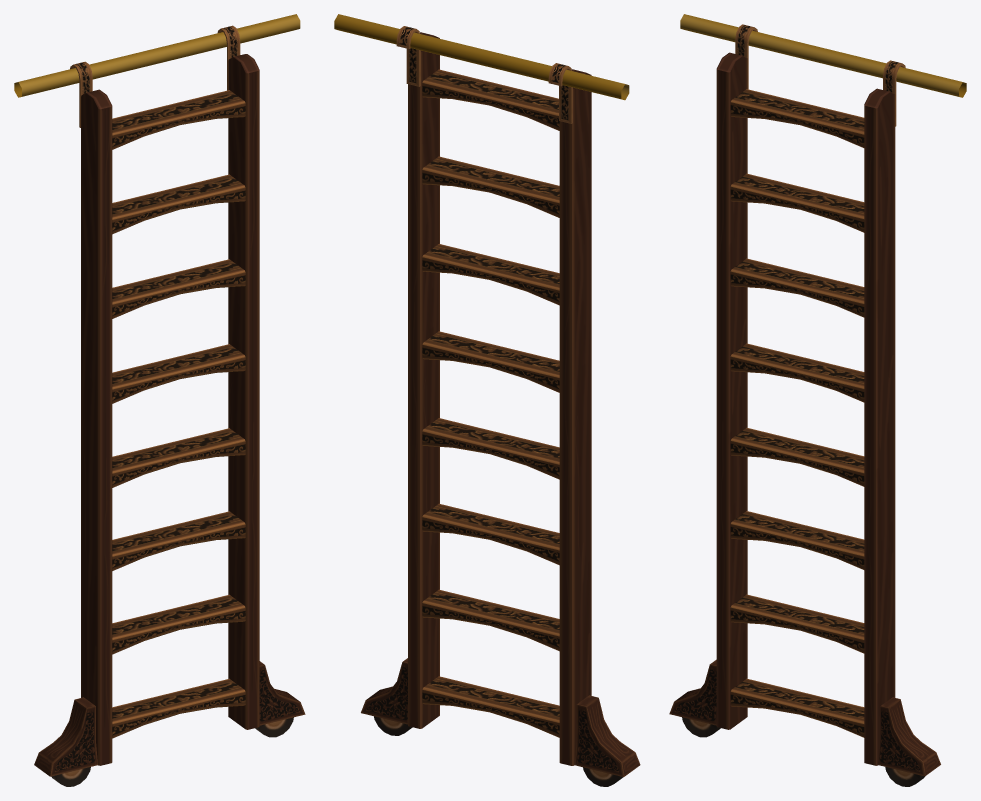
File: Ladder_Sliding_Fancy.fbx
3 views of the same model, side by side, from view 1: azimuth 30°, elevation 25°; view 2: azimuth 150°, elevation 25°; view 3: azimuth 330°, elevation 25° (orthographic). The views are drawn at different scales.
Visible parts, largest first — view 1: pCube19, pCube17, pCylinder4, pCube26, pCube22, pCube24, pCube18, pCube28, pCube30, pCube32, pCube20, pCube33 (+3 smaller); view 2: pCube19, pCube17, pCylinder4, pCube24, pCube26, pCube20, pCube28, pCube32, pCube22, pCube30, pCube18, pCube33 (+3 smaller); view 3: pCube17, pCube19, pCylinder4, pCube30, pCube22, pCube24, pCube26, pCube32, pCube20, pCube18, pCube28, pCube34 (+3 smaller).
Boxes of the visible parts, bbox=[...] form: pCube19: bbox=[81, 89, 112, 765]; pCube17: bbox=[228, 54, 259, 729]; pCylinder4: bbox=[14, 14, 300, 97]; pCube26: bbox=[112, 428, 245, 487]; pCube22: bbox=[112, 259, 245, 318]; pCube24: bbox=[112, 344, 245, 403]; pCube18: bbox=[112, 90, 245, 149]; pCube28: bbox=[112, 511, 245, 570]; pCube30: bbox=[112, 594, 245, 654]; pCube32: bbox=[112, 678, 245, 738]; pCube20: bbox=[112, 174, 245, 234]; pCube33: bbox=[34, 697, 97, 776]; pCube19: bbox=[559, 69, 591, 765]; pCube17: bbox=[408, 32, 439, 728]; pCylinder4: bbox=[334, 14, 629, 100]; pCube24: bbox=[422, 331, 559, 392]; pCube26: bbox=[422, 418, 559, 479]; pCube20: bbox=[422, 156, 559, 217]; pCube28: bbox=[422, 503, 559, 565]; pCube32: bbox=[422, 676, 559, 737]; pCube22: bbox=[422, 244, 559, 305]; pCube30: bbox=[422, 589, 559, 651]; pCube18: bbox=[422, 69, 559, 130]; pCube33: bbox=[574, 695, 640, 777]; pCube17: bbox=[864, 88, 895, 765]; pCube19: bbox=[716, 52, 747, 729]; pCylinder4: bbox=[680, 14, 966, 97]; pCube30: bbox=[730, 594, 864, 653]; pCube22: bbox=[730, 258, 864, 317]; pCube24: bbox=[730, 343, 864, 402]; pCube26: bbox=[730, 428, 864, 486]; pCube32: bbox=[730, 678, 864, 737]; pCube20: bbox=[730, 173, 864, 232]; pCube18: bbox=[730, 89, 864, 147]; pCube28: bbox=[730, 511, 864, 569]; pCube34: bbox=[878, 697, 940, 776].
Bounding box in the file's own units: 801 × 1927 × 151.
